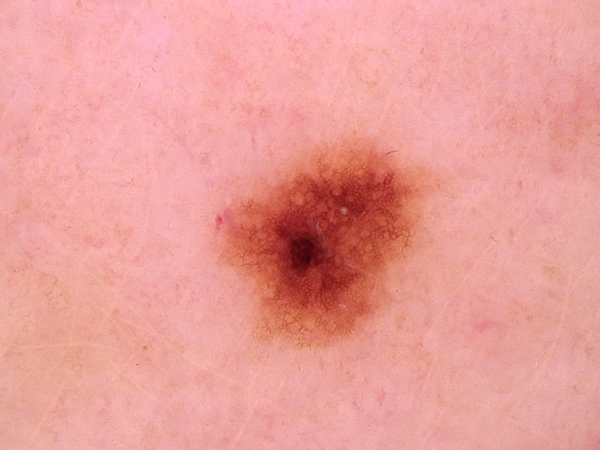Detected Lesion: (211, 127, 423, 359)
